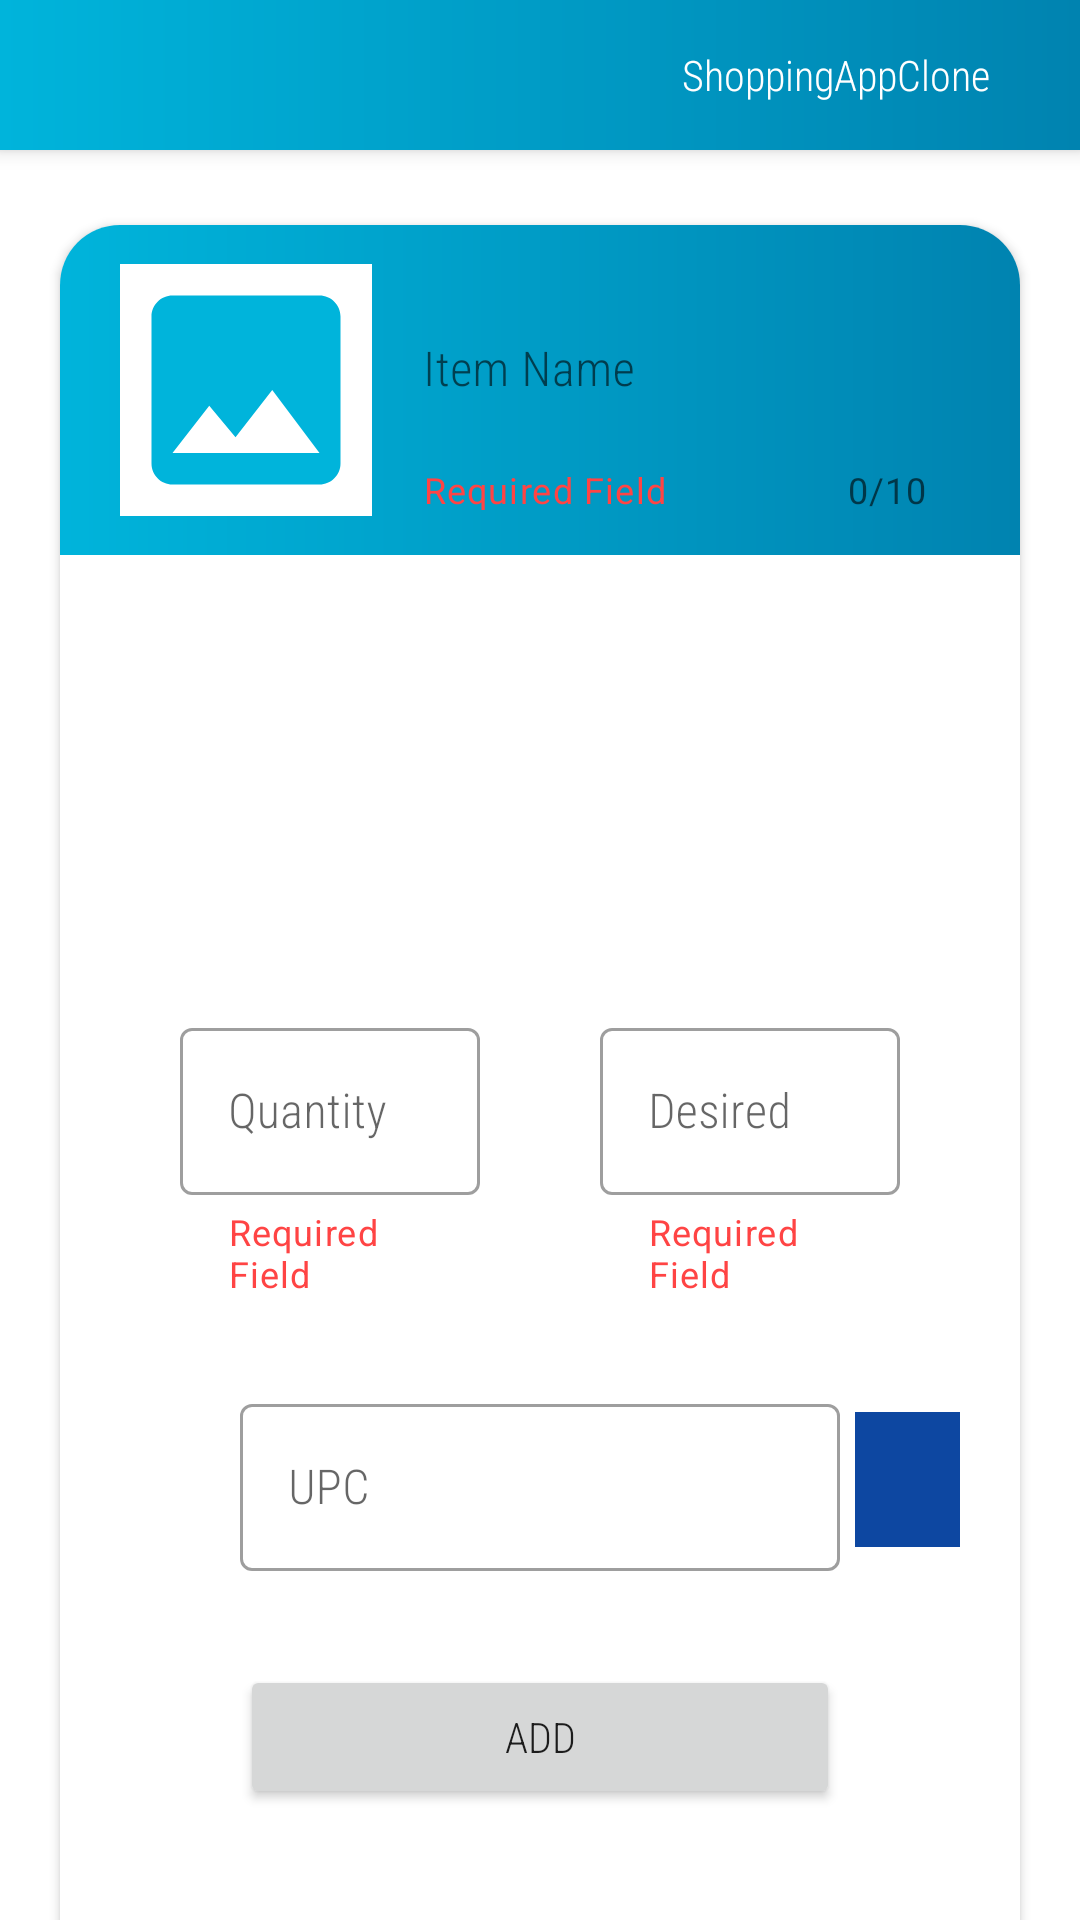

Icons on this 1080×1920 Android screen, each with its box as [x1,y1,x2,y2]:
photo: [120,264,372,516]
